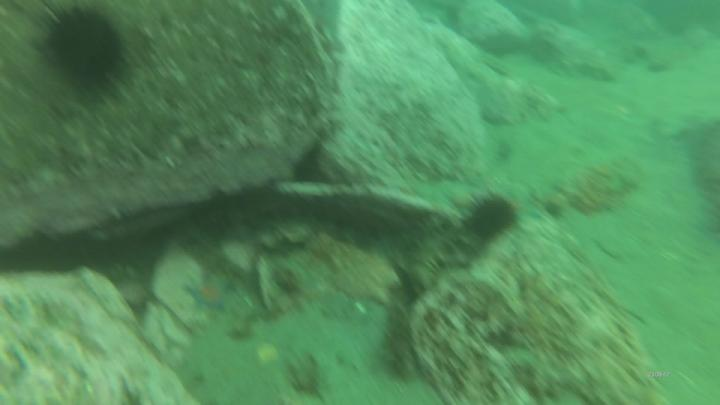echinus: (34, 5, 130, 104), (464, 188, 520, 242)
holothurian: (388, 223, 456, 382)
starfish: (185, 274, 233, 319)
